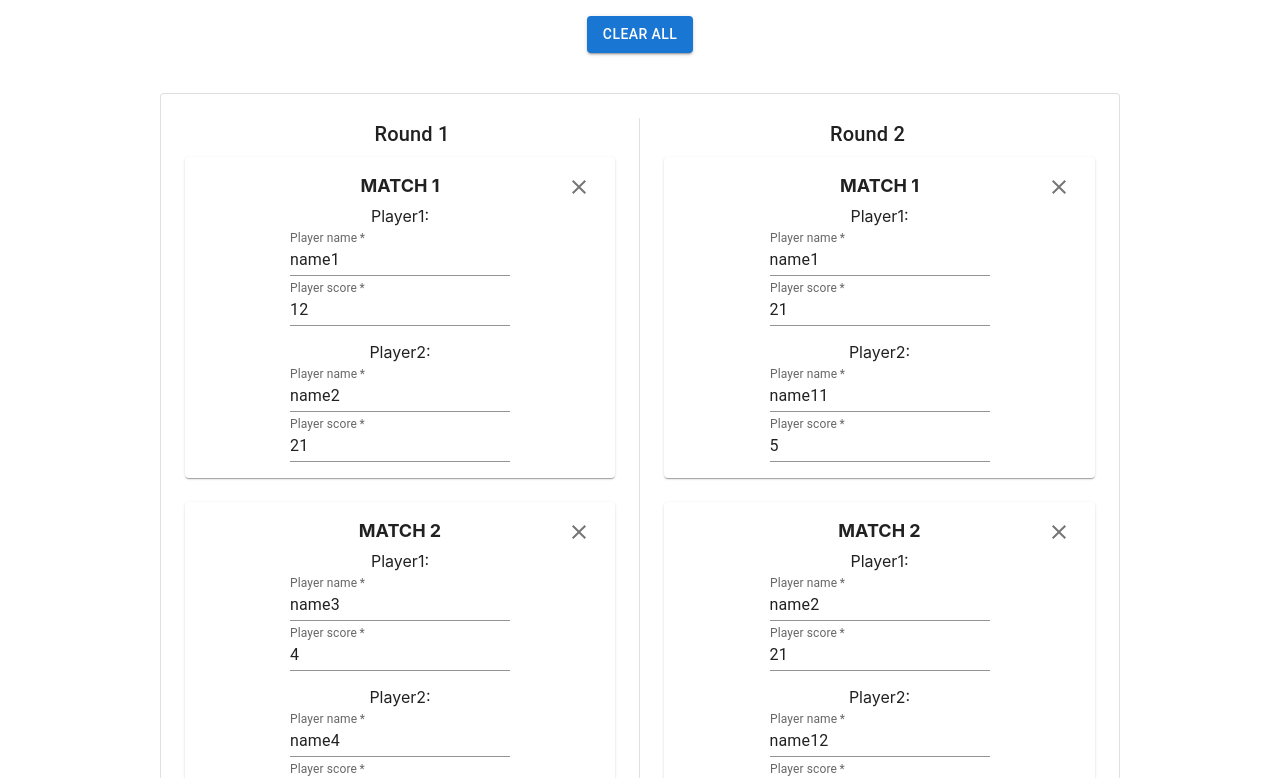
Test: App component › click clear all button to clear the default data
The width and height of the screenshot is (1280, 778).
expect the text "MATCH 1" below "Round 1" is shown: met, box [361,174,432,196]
Click the button "Clear All" at point(640, 34), box [587,16,693,52]
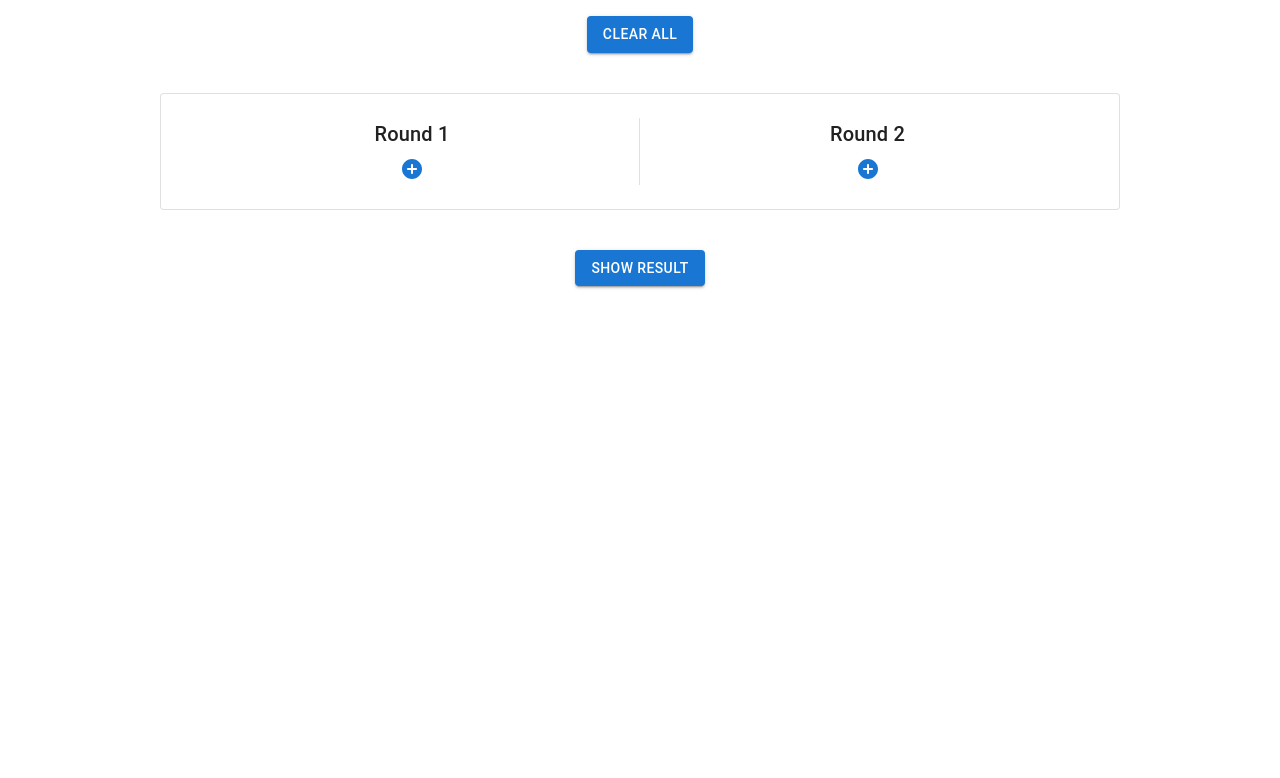
expect the text "MATCH" is gone: met
